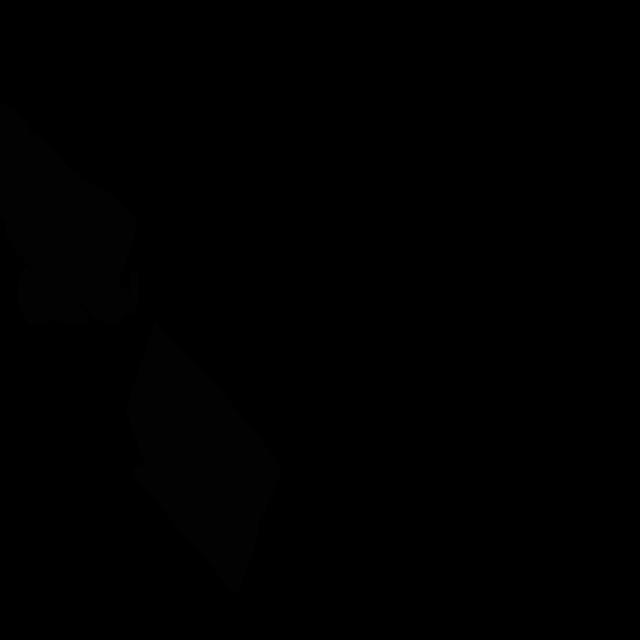cardboard: (126, 322, 281, 593), (0, 102, 139, 326), (17, 266, 88, 326)
